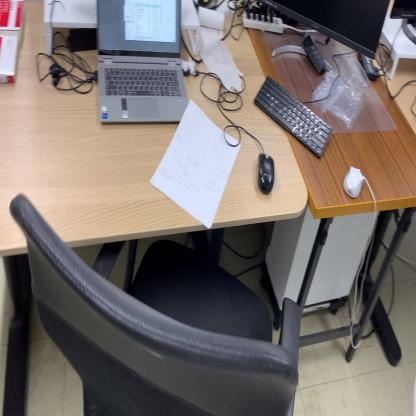chair: (9, 192, 303, 416)
